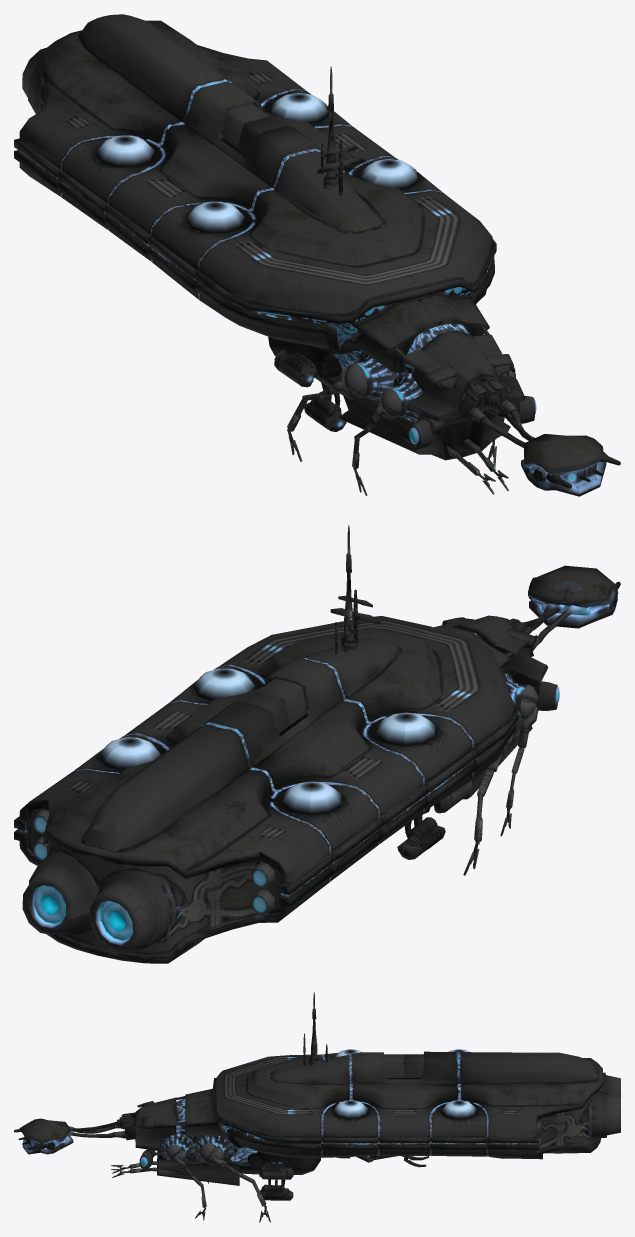
Rendered from 42692_lite.glb.
3 views of the same model, one above another, from view 1: azimuth 30°, elevation 25°; view 2: azimuth 150°, elevation 25°; view 3: azimuth 270°, elevation 25° (orthographic). The views are drawn at different scales.
Visible parts, largest first — view 1: shipmodelShape.002, shipmodelShape; view 2: shipmodelShape.002, shipmodelShape; view 3: shipmodelShape.002, shipmodelShape.
Part boxes in pixels (x1,y1,x2,y2): shipmodelShape.002: (14, 14, 620, 496); shipmodelShape: (96, 93, 417, 232); shipmodelShape.002: (14, 525, 620, 963); shipmodelShape: (100, 668, 435, 814); shipmodelShape.002: (14, 992, 620, 1222); shipmodelShape: (333, 1049, 476, 1119).
Size of the model in its own units: 1.75 by 2.21 by 5.8.
Materials: 2 (2 with a texture image).
